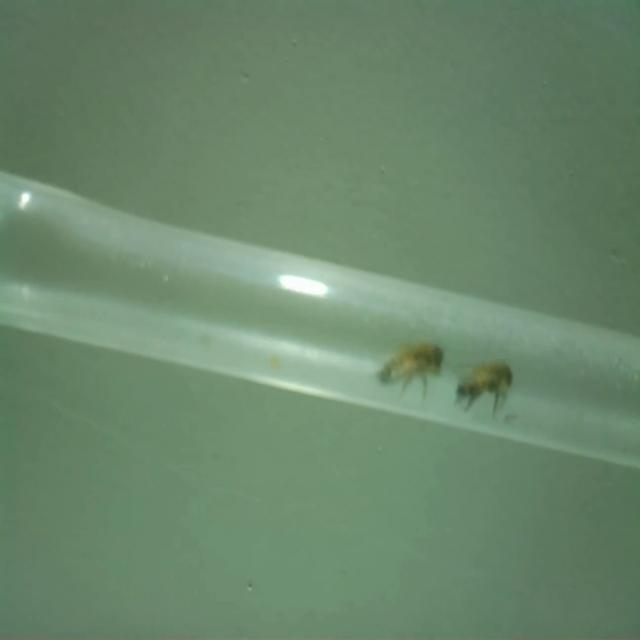Honeybee-Detection: (375, 336, 444, 399), (456, 358, 514, 417)
